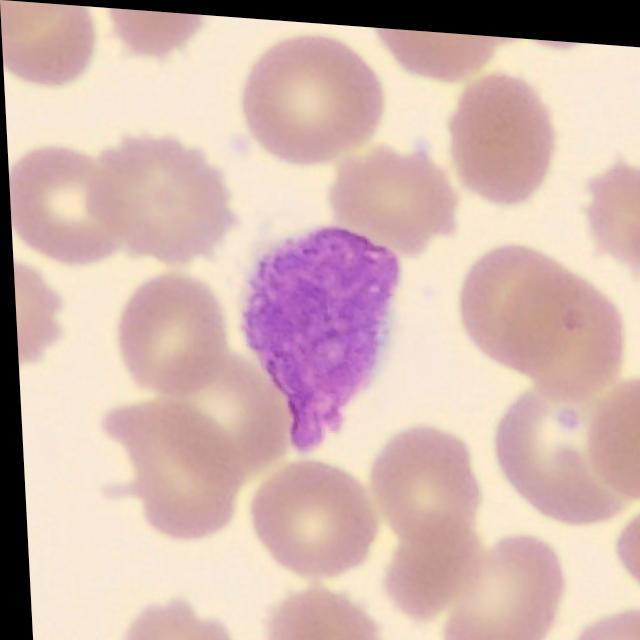Linfocito: (238, 221, 399, 446)
